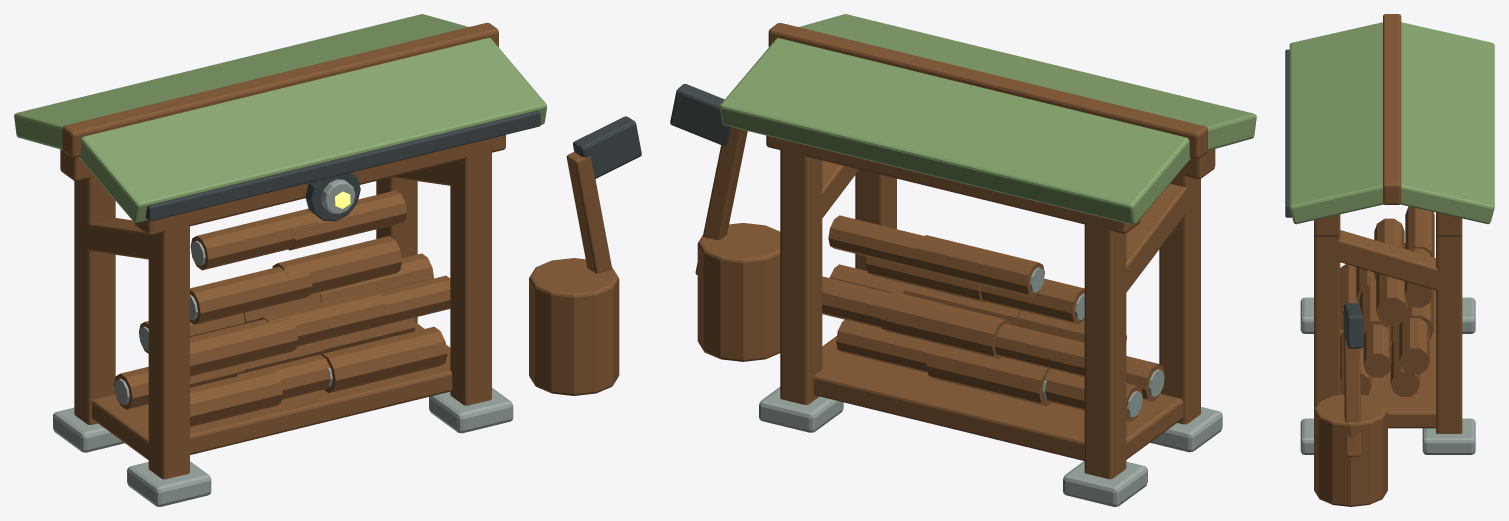
File: SM_EmbermereFenwatchFirewoodRack_01.fbx
3 renders of one model, left to right at view 1: azimuth 30°, elevation 25°; view 2: azimuth 150°, elevation 25°; view 3: azimuth 270°, elevation 25°, orthographic. The views are drawn at different scales.
Parts seen in each view (by area): view 1: SM_EmbermereFenwatchFirewoodRack_01; view 2: SM_EmbermereFenwatchFirewoodRack_01; view 3: SM_EmbermereFenwatchFirewoodRack_01.
Boxes of the visible parts, left/top/right/bottom form: SM_EmbermereFenwatchFirewoodRack_01: left=14, top=14, right=641, bottom=506; SM_EmbermereFenwatchFirewoodRack_01: left=670, top=14, right=1256, bottom=506; SM_EmbermereFenwatchFirewoodRack_01: left=1285, top=14, right=1494, bottom=506.
Size of what is drawn, in the model's own units: 393 by 158 by 238.
